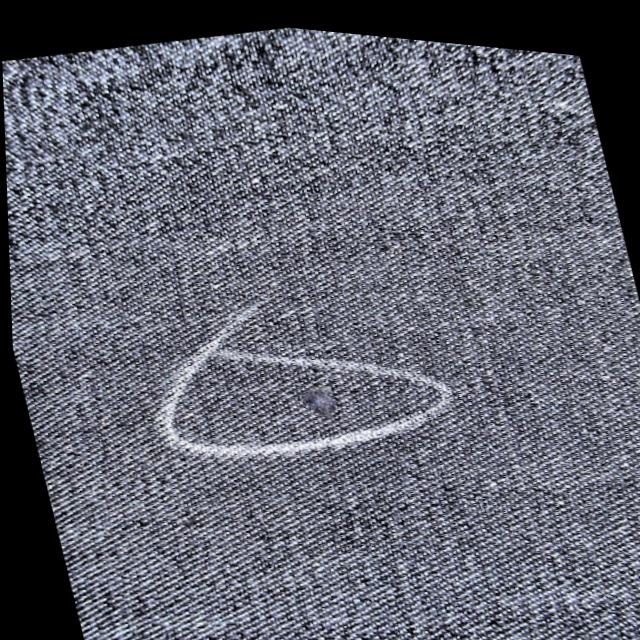Hole: (267, 364, 370, 436)
